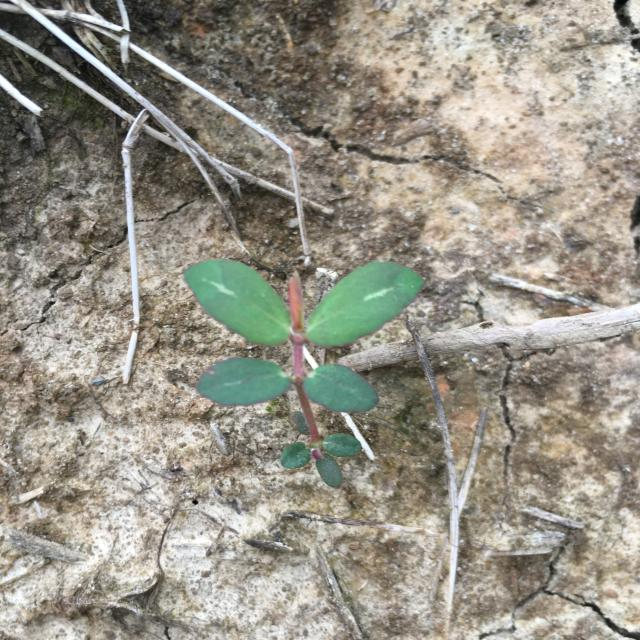SpottedSpurge: (184, 259, 426, 488)
